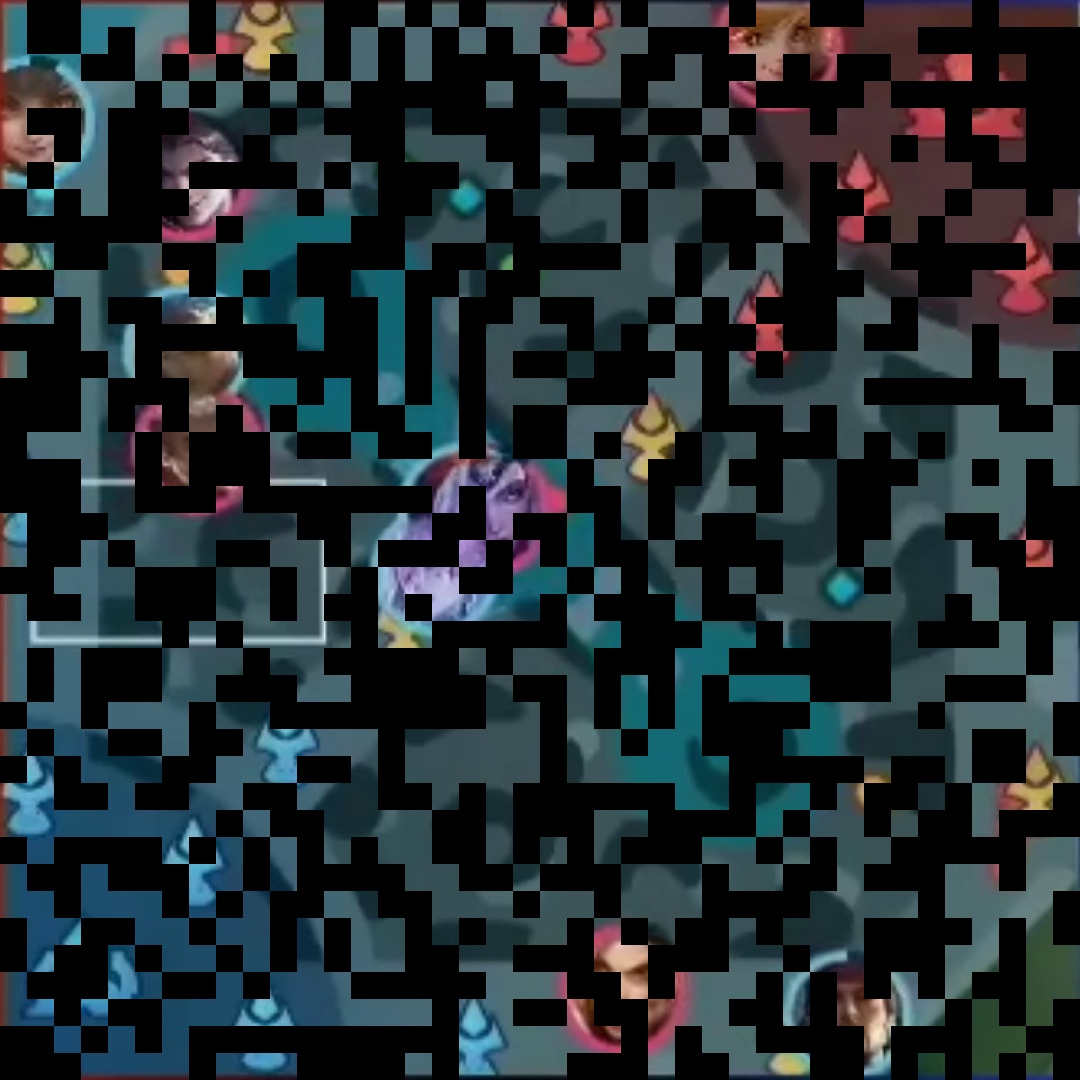Chou: (148, 408, 247, 503)
Claude: (129, 122, 240, 235)
Fanny: (723, 6, 840, 104)
Fredrinn: (132, 295, 241, 395)
Lapu-Lapu: (794, 958, 907, 1072)
Masha: (573, 935, 679, 1049)
Novaria: (383, 529, 482, 625)
Valentina: (448, 464, 540, 564)
Wanwan: (5, 58, 92, 178)
